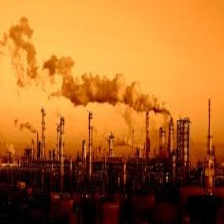smoke: (9, 26, 179, 116)
